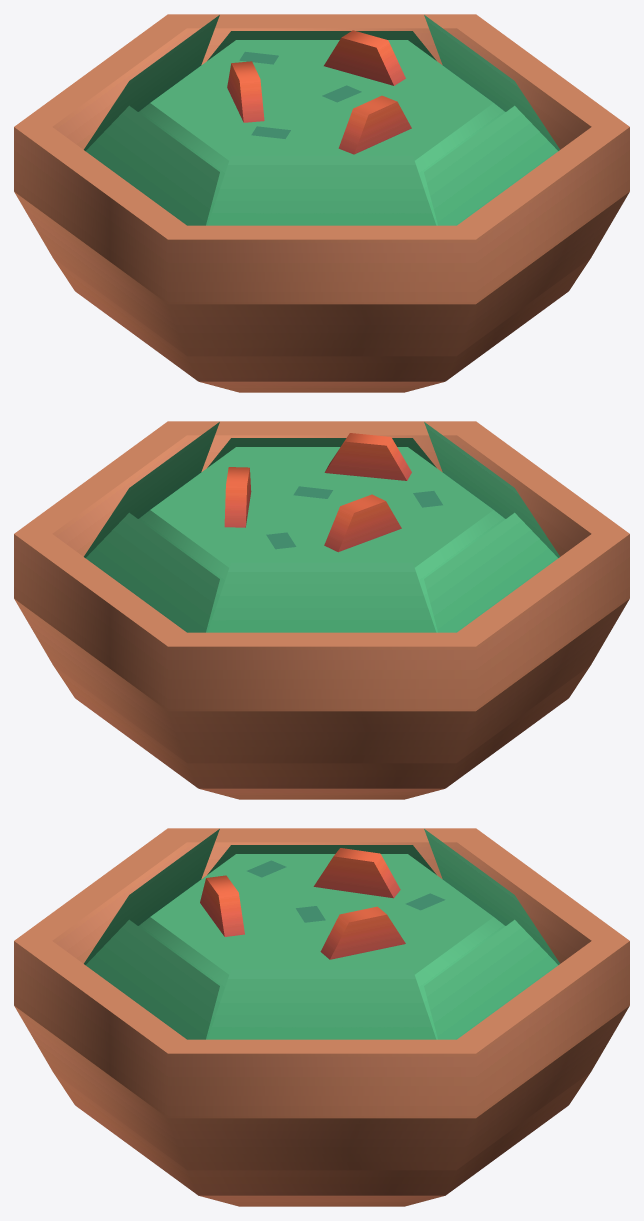
Rendered from salad.aa7416f57b.glb.
3 views of the same model, one above another, from view 1: azimuth 30°, elevation 25°; view 2: azimuth 150°, elevation 25°; view 3: azimuth 270°, elevation 25° (orthographic).
Parts seen in each view (by area): view 1: salad; view 2: salad; view 3: salad.
Boxes of the visible parts, box(x1,y1,x2,y2) form: salad: box(14, 14, 629, 392); salad: box(14, 421, 629, 799); salad: box(14, 828, 629, 1206).
Bounding box in the file's own units: 0.5022 × 0.2734 × 0.5798.
1 material, 1 textured.
